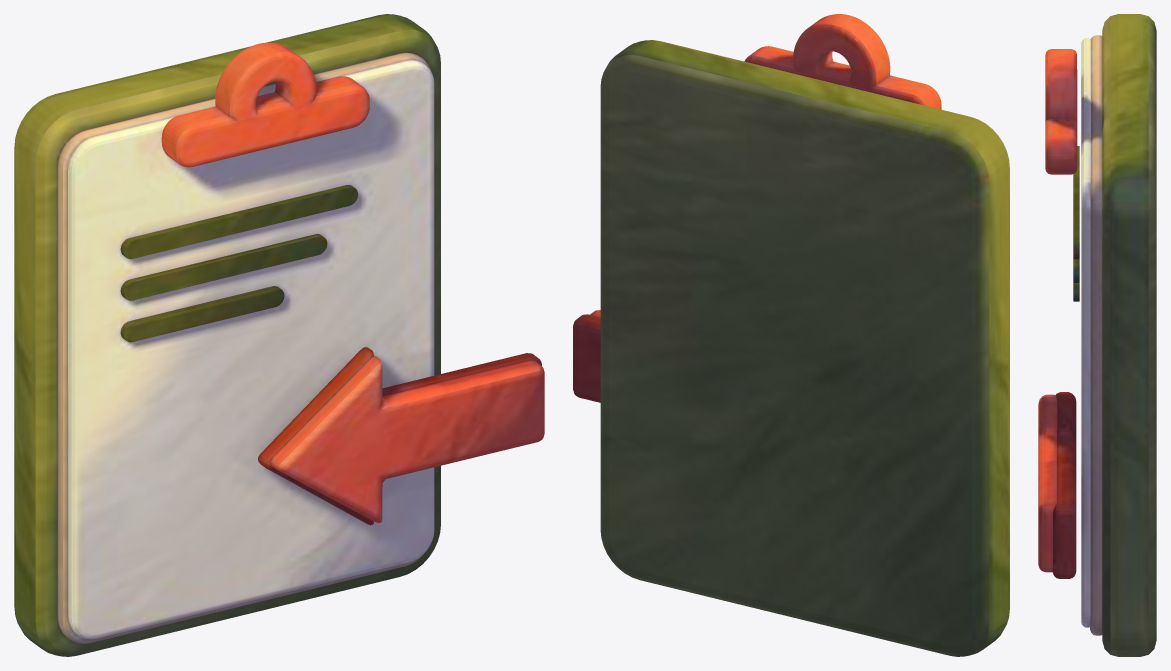
File: import.glb
3 renders of one model, left to right at view 1: azimuth 30°, elevation 25°; view 2: azimuth 150°, elevation 25°; view 3: azimuth 270°, elevation 25°, orthographic. The views are drawn at different scales.
Parts seen in each view (by area): view 1: Clip • bar.001; view 2: Clip • bar.001; view 3: Clip • bar.001.
Part boxes in pixels (x1=…): Clip • bar.001: x1=14, y1=14, x2=544, y2=656; Clip • bar.001: x1=573, y1=14, x2=1009, y2=656; Clip • bar.001: x1=1038, y1=14, x2=1156, y2=656.
Size of the model in its own units: 2.01 by 2.37 by 0.4795.
1 material, 1 textured.
